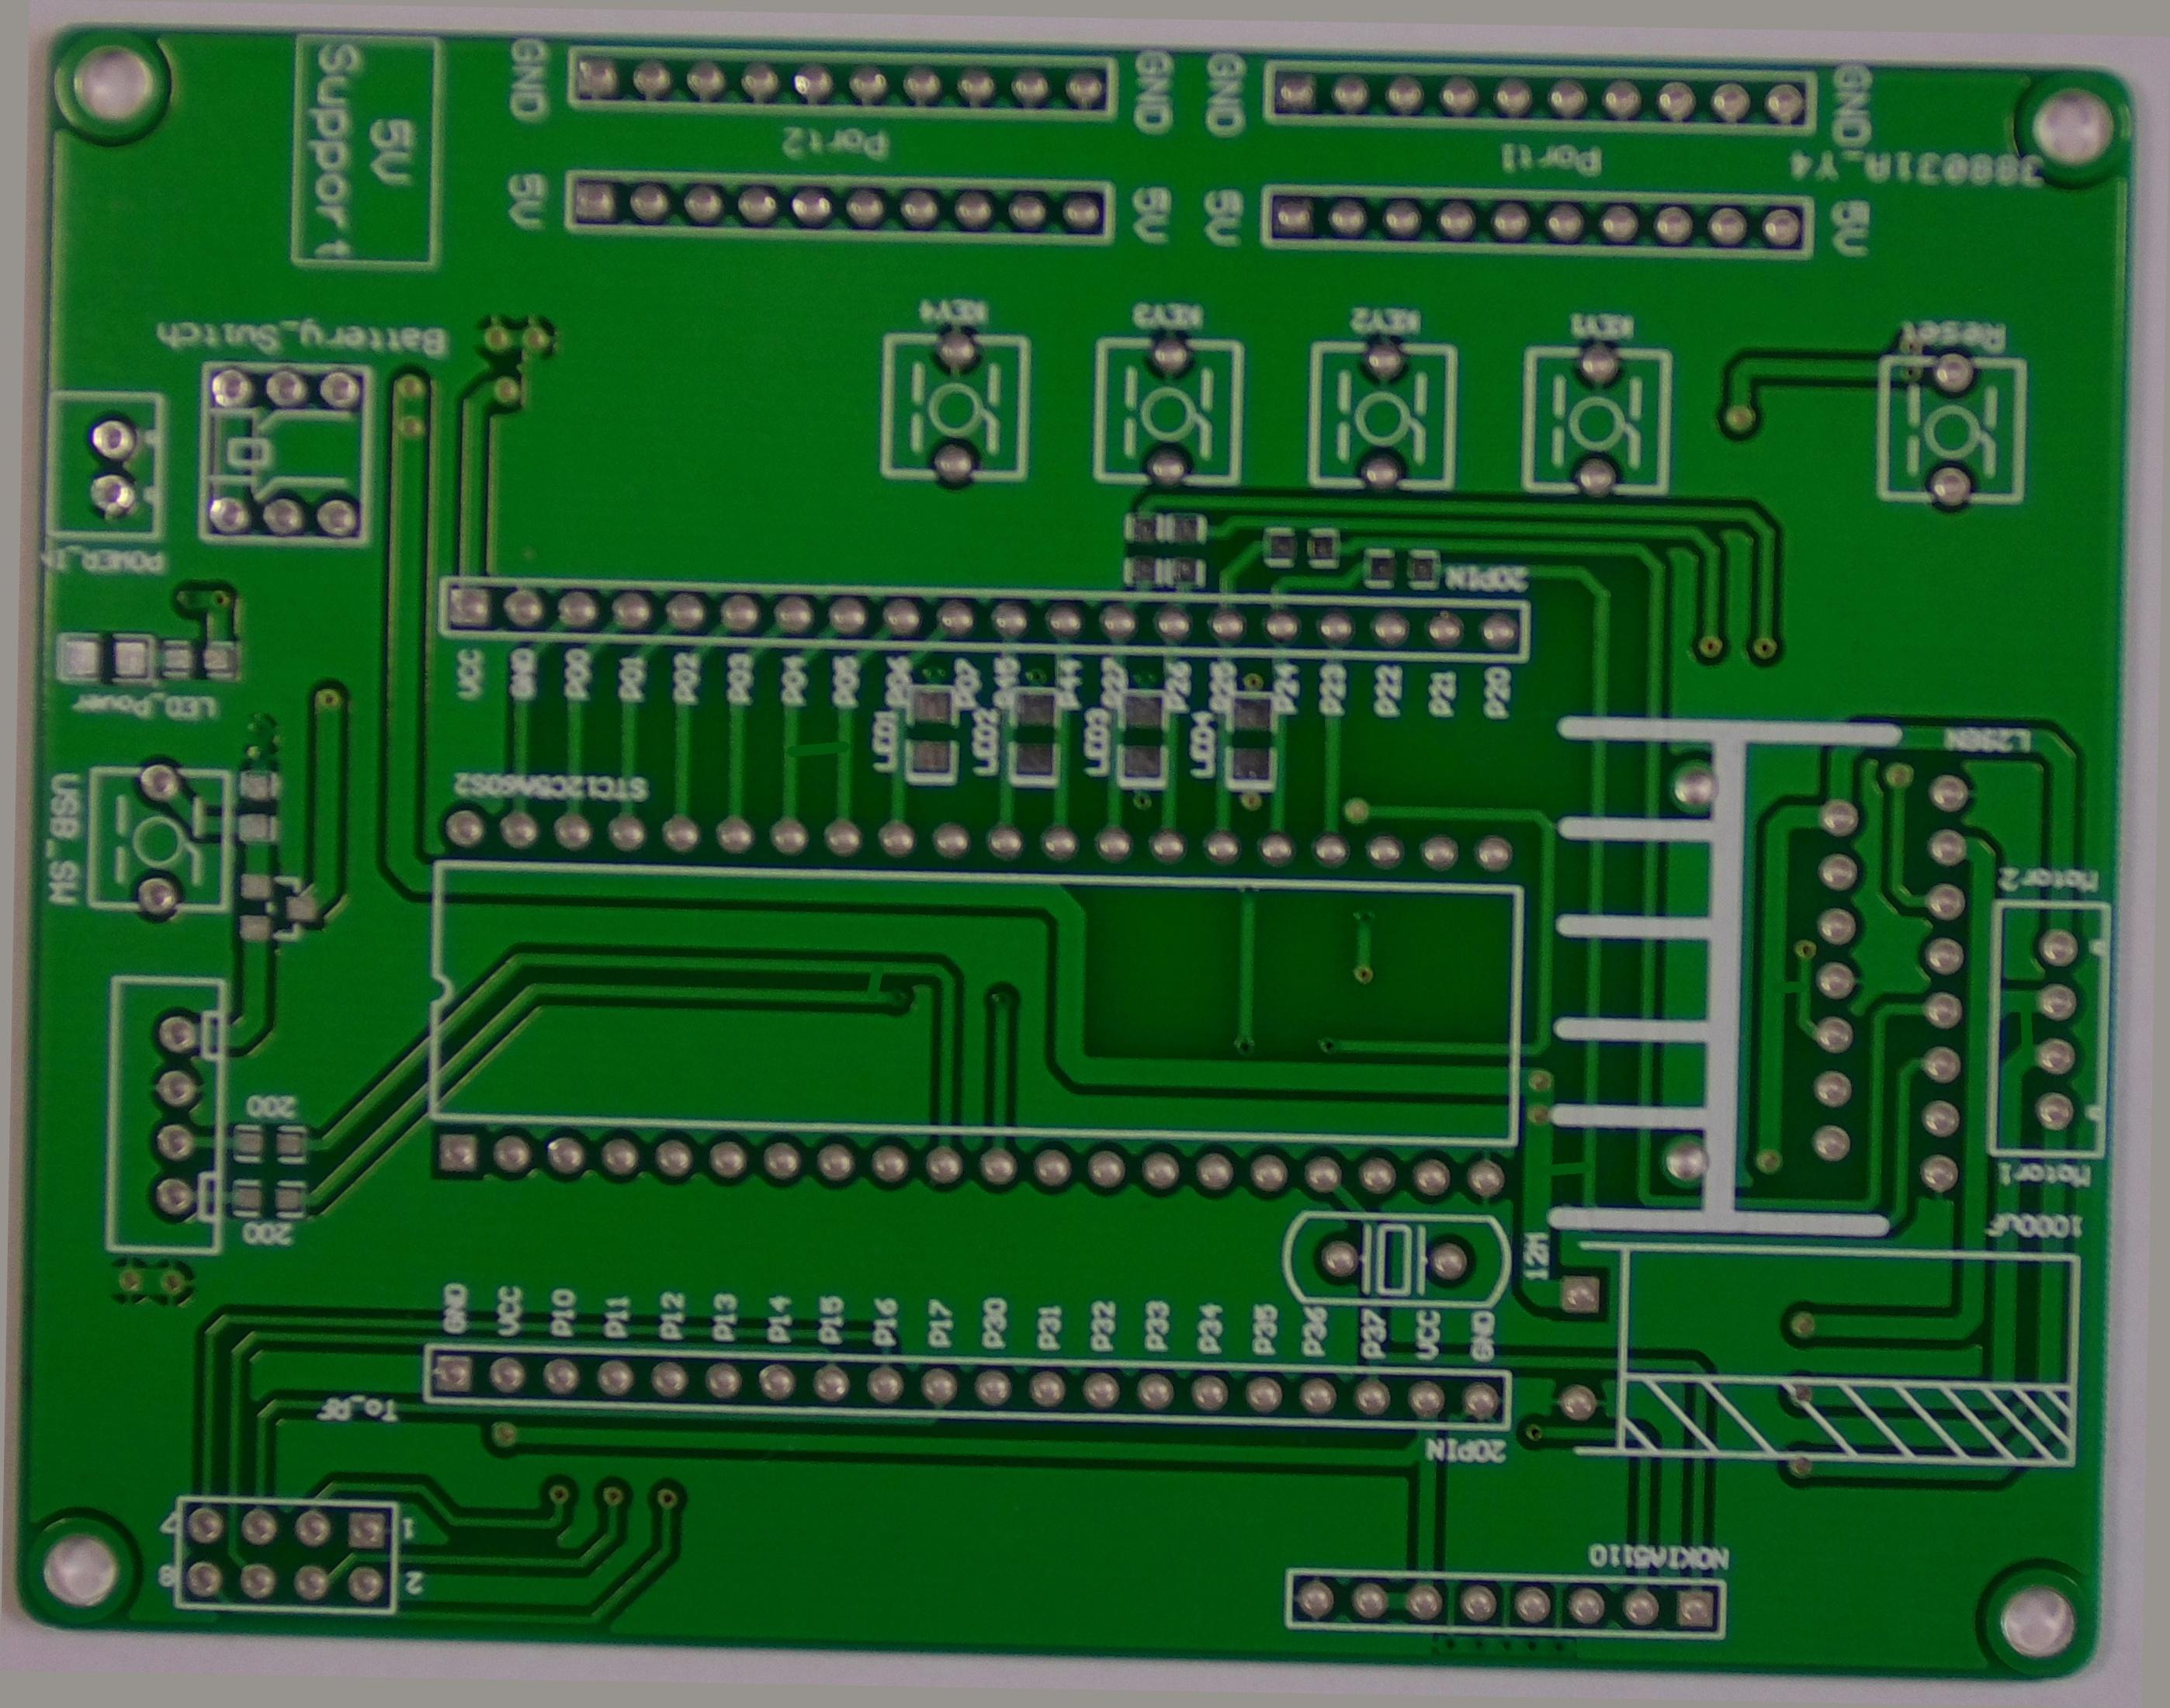short: (2011, 975, 2078, 1056), (764, 727, 854, 780), (1536, 1141, 1612, 1197), (1767, 954, 1835, 1005), (845, 963, 902, 1014)
